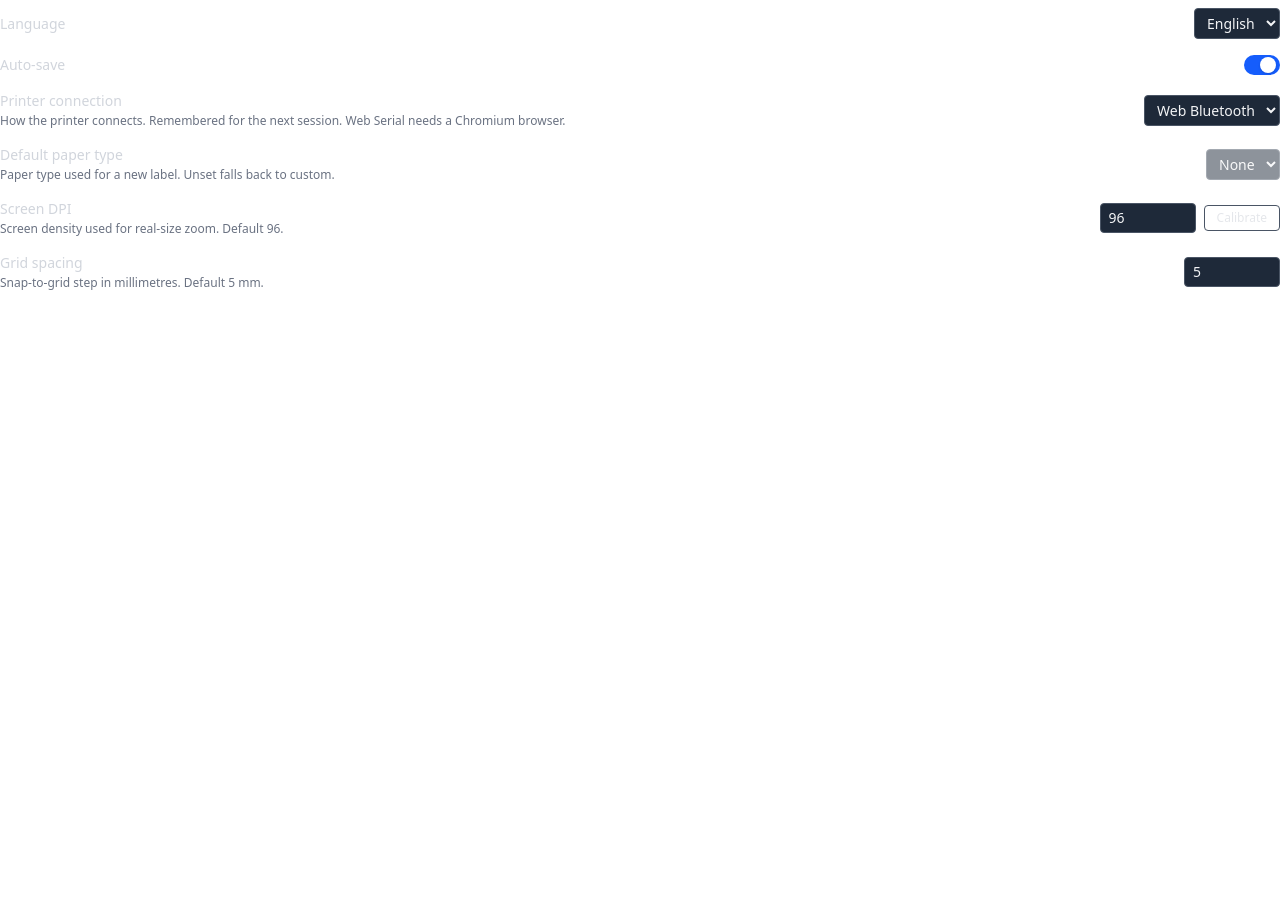
Test case: GeneralSection calibration dialog (P7 #11) › unmounts the dialog again on close
What coordinates should you click on to do the following:
click the button "Calibrate"
I would click on:
 (1242, 218)
Its box is [1204,205,1279,231].
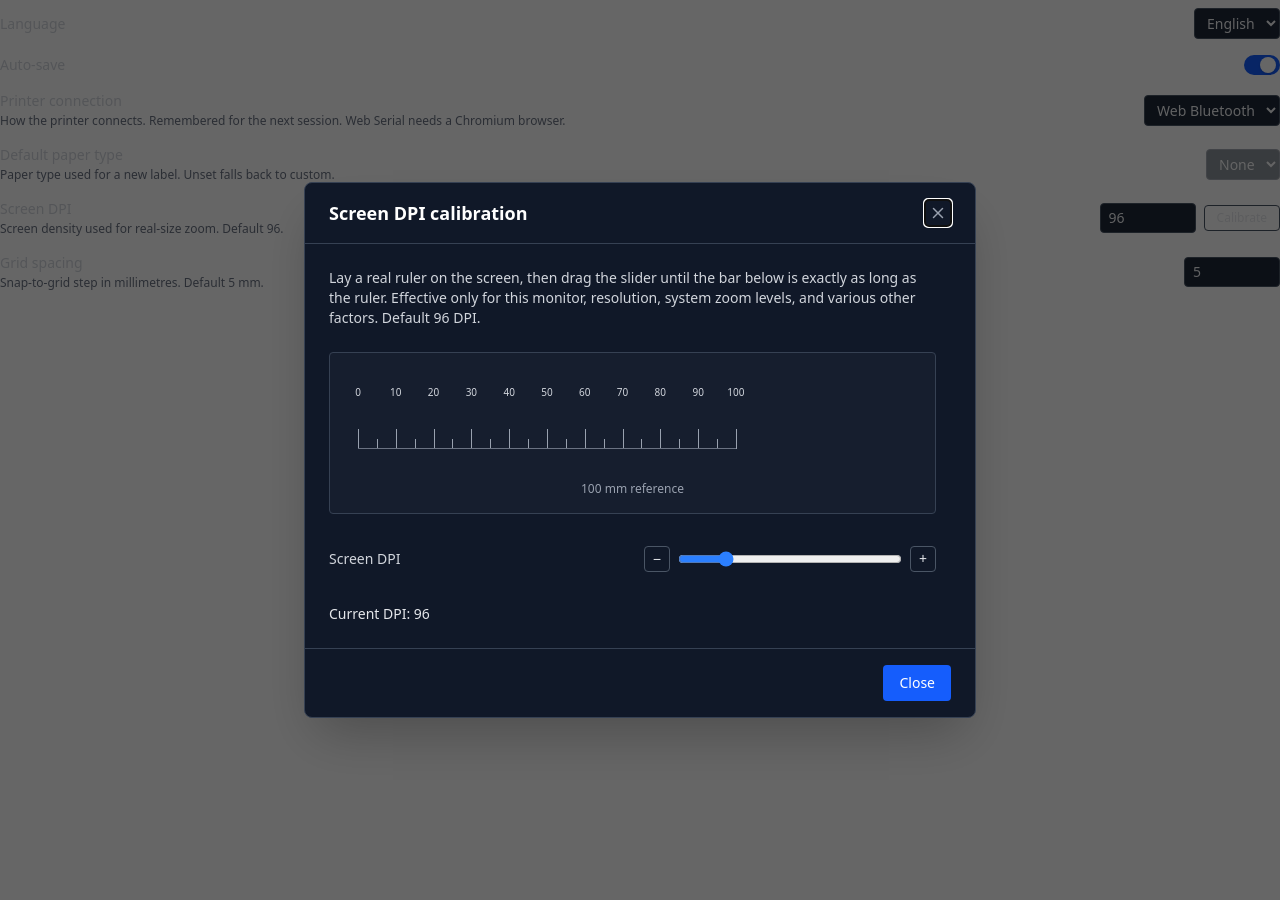
Note: By text, not accessible name: the header X carries the same label.
What coordinates should you click on to do the following:
click the button "Close"
I would click on:
 (917, 683)
Its box is [884,665,951,701].
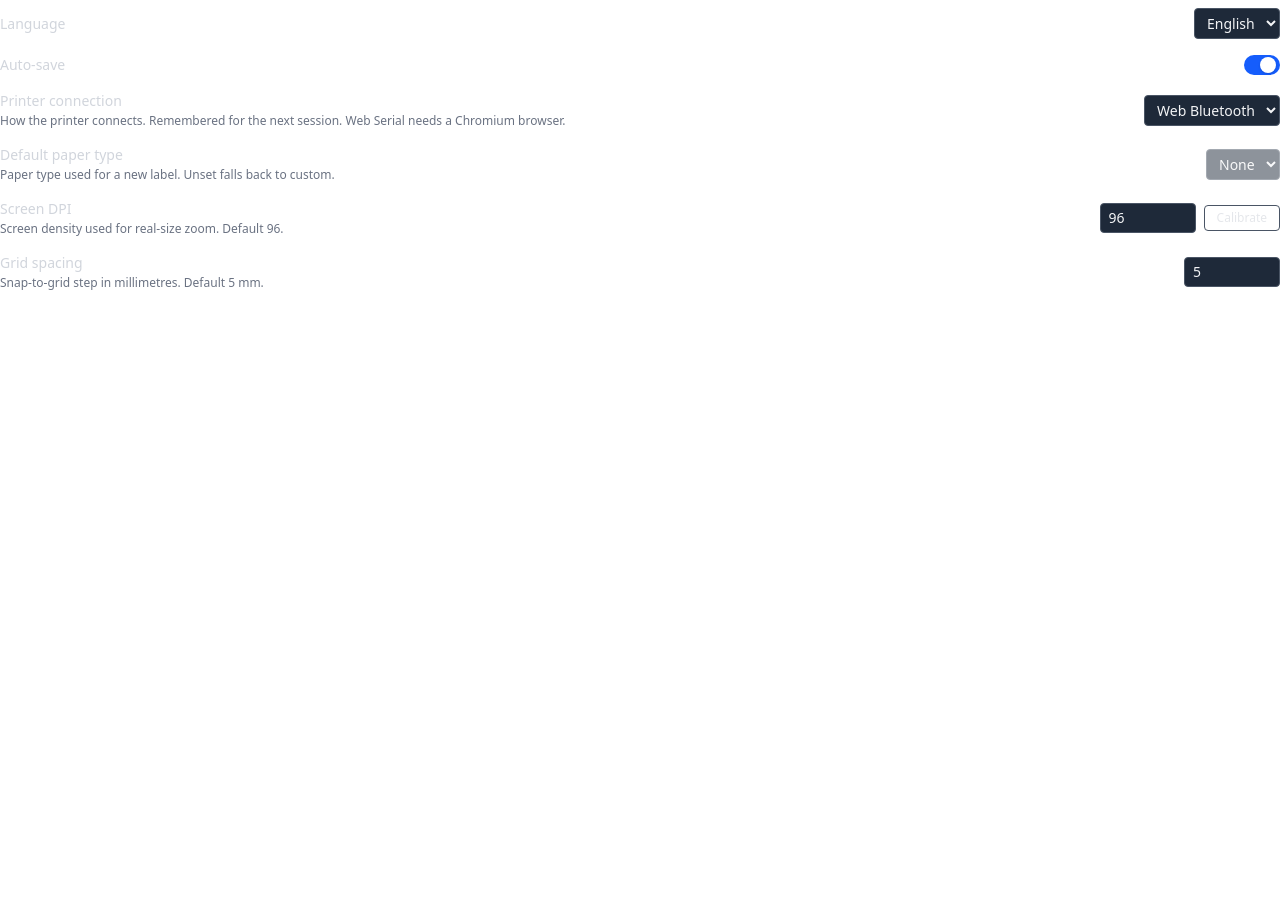
Check: the picture with test id "calibration-ruler" is gone
